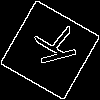K: (25, 25, 78, 70)
